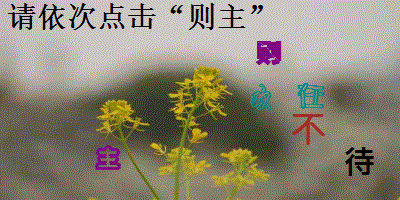result: (186, 1, 247, 31)
text: (290, 111, 328, 146), (343, 145, 375, 177), (295, 80, 327, 110), (92, 144, 124, 173), (253, 38, 284, 67), (248, 83, 275, 112)
